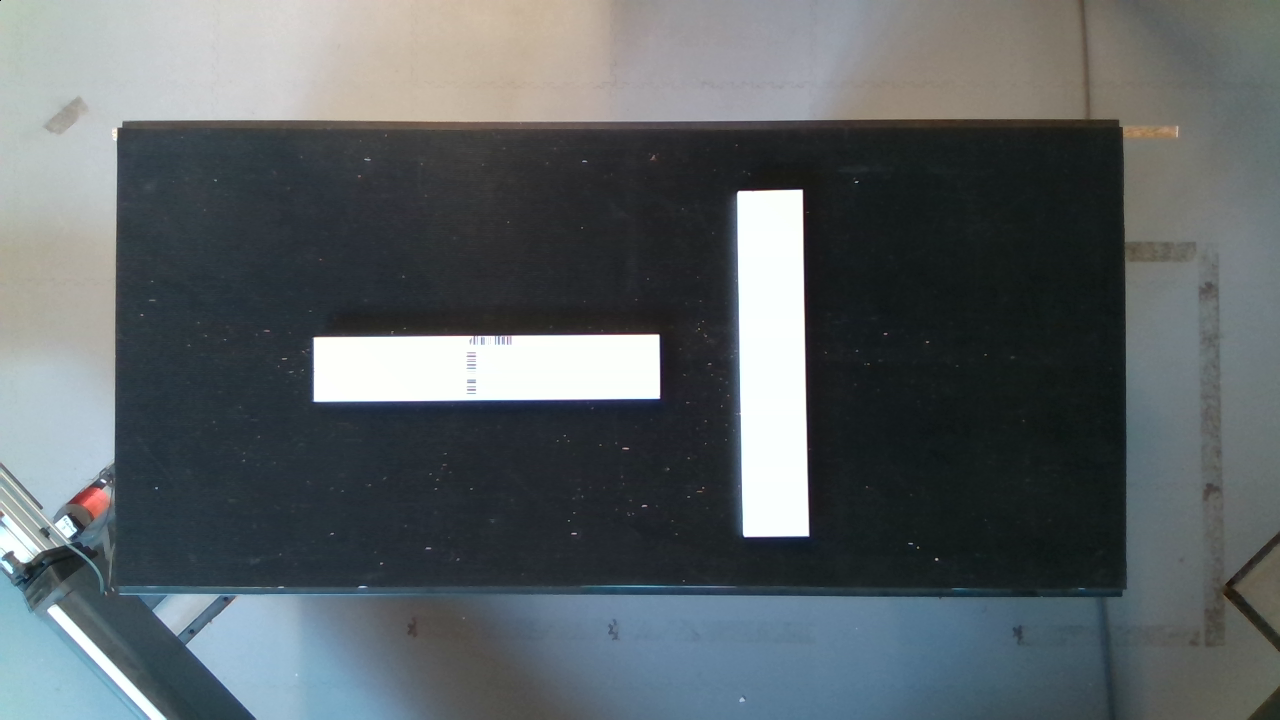barcode: (459, 325, 533, 413)
part1: (725, 180, 823, 548), (298, 321, 673, 416)
